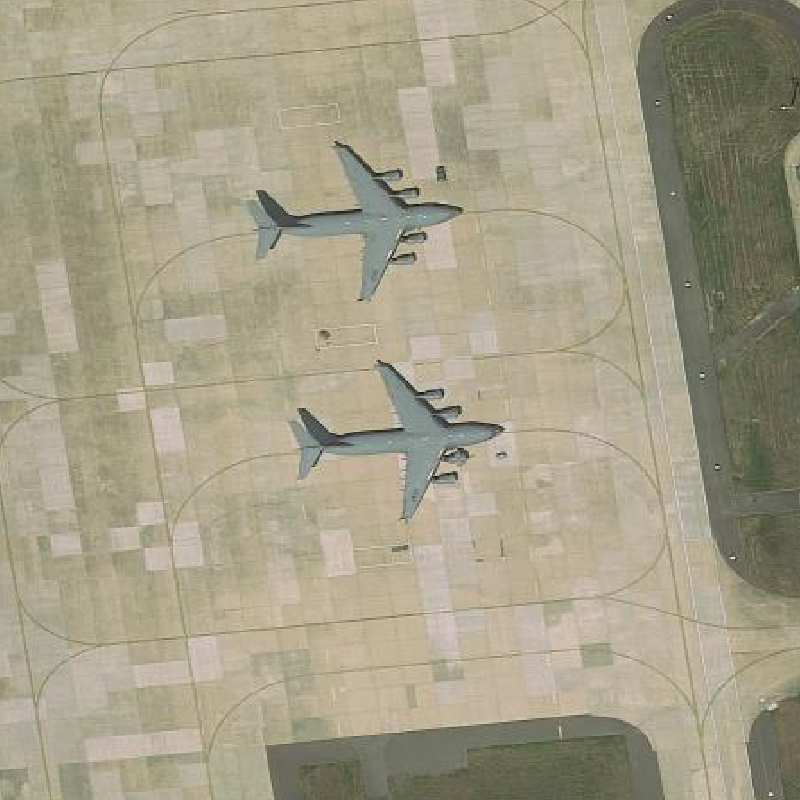A3: (277, 354, 510, 529), (242, 138, 467, 310)
